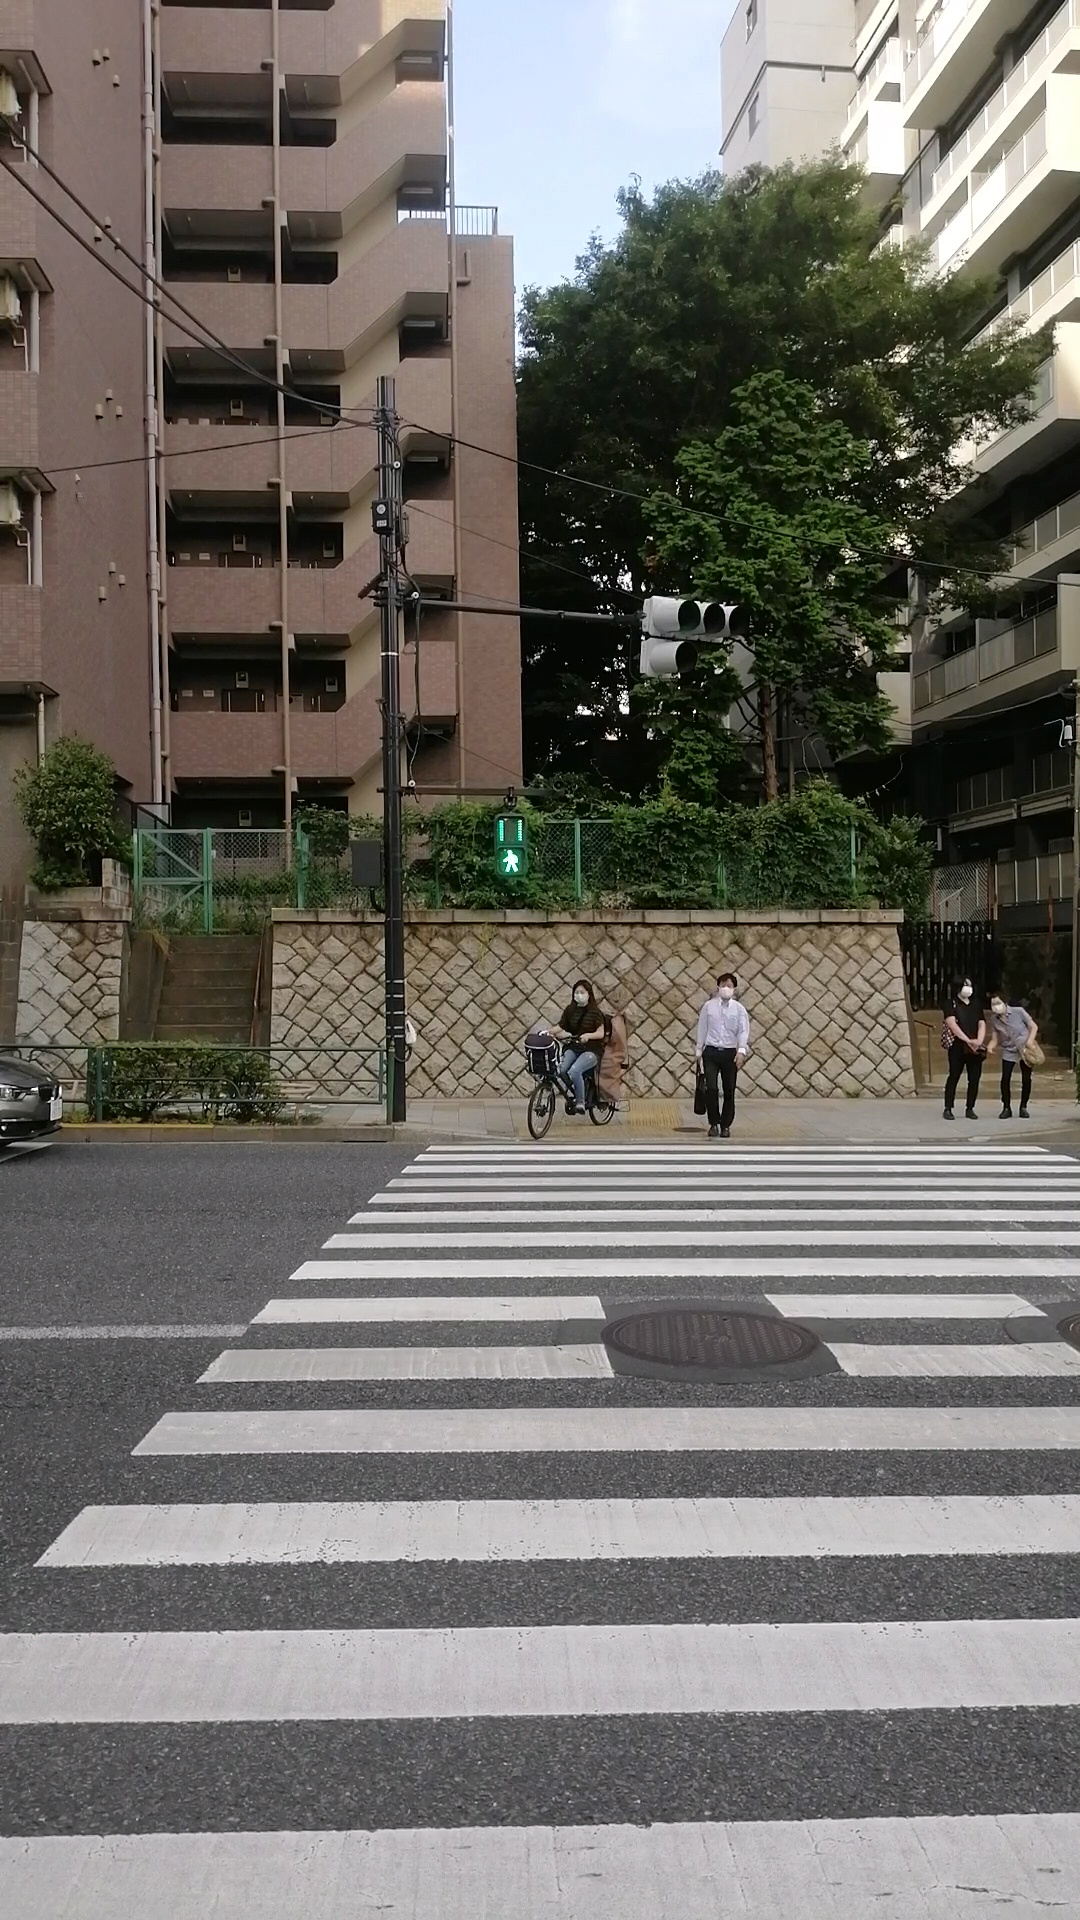green: (493, 810, 527, 876)
